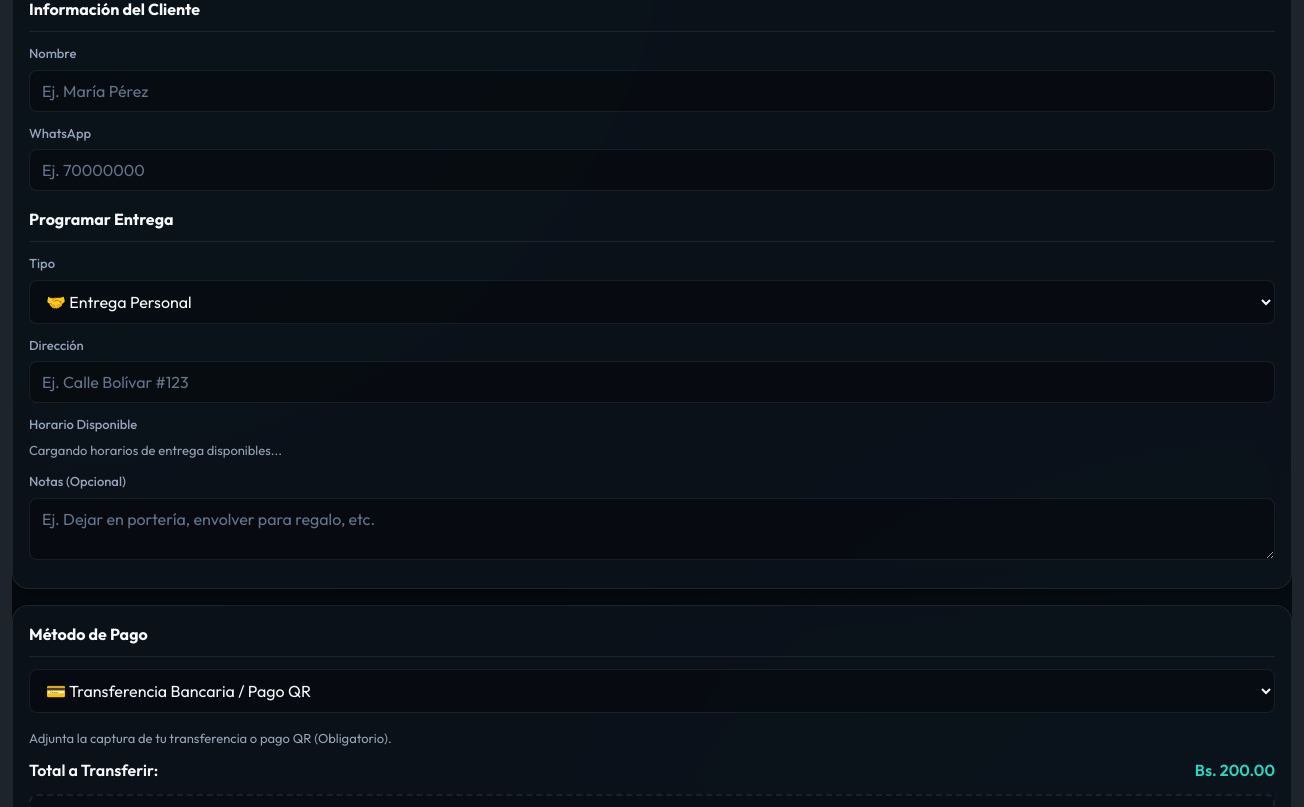
Test: Checkout.tsx — Validaciones de negocio (Pitch A) › bloquea el submit y muestra error si método=transfer y no se adjuntó comprobante
Rellenar campos obligatorios del formulario
Type "Juan Prueba" into the field with placeholder "Ej. María Pérez" at (652, 90), box x1=29 y1=70 x2=1275 y2=112
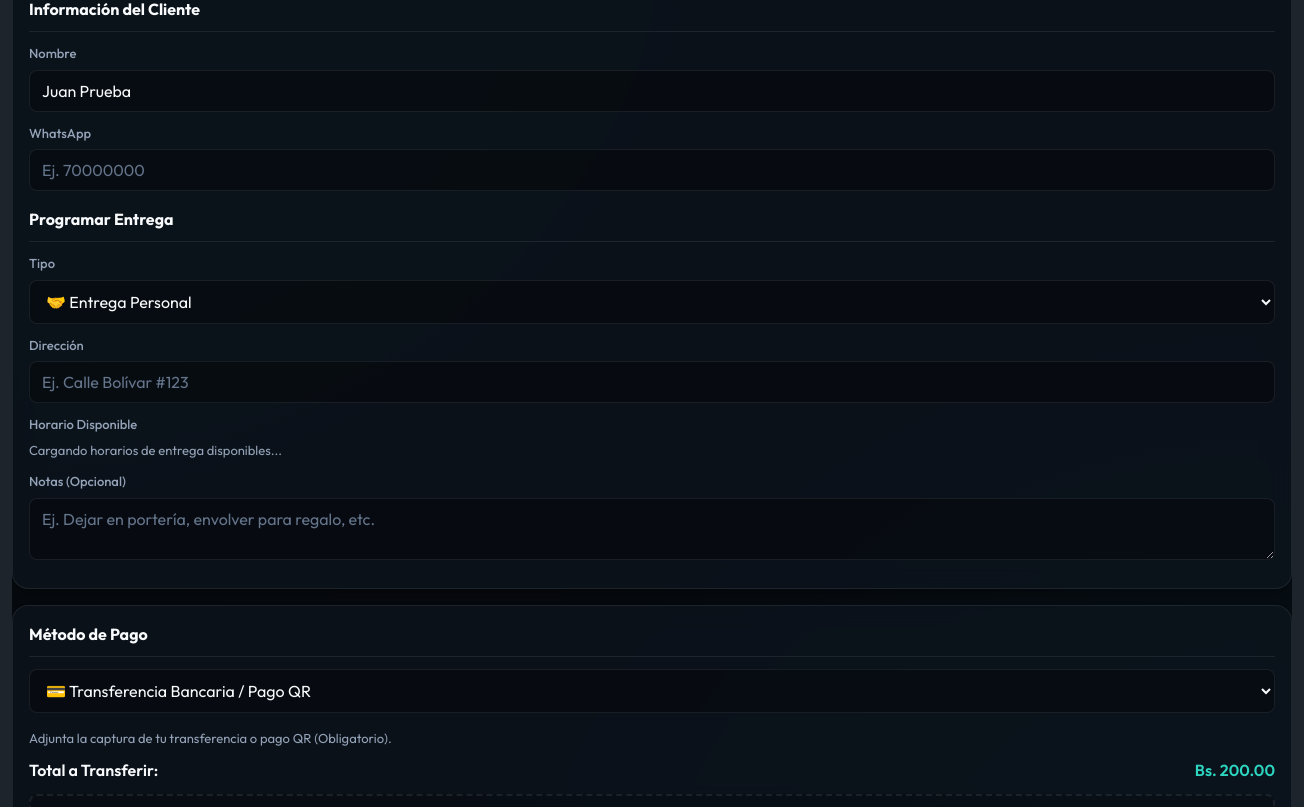
Type "77654321" into the field with placeholder "Ej. 70000000" at (652, 170), box x1=29 y1=149 x2=1275 y2=191
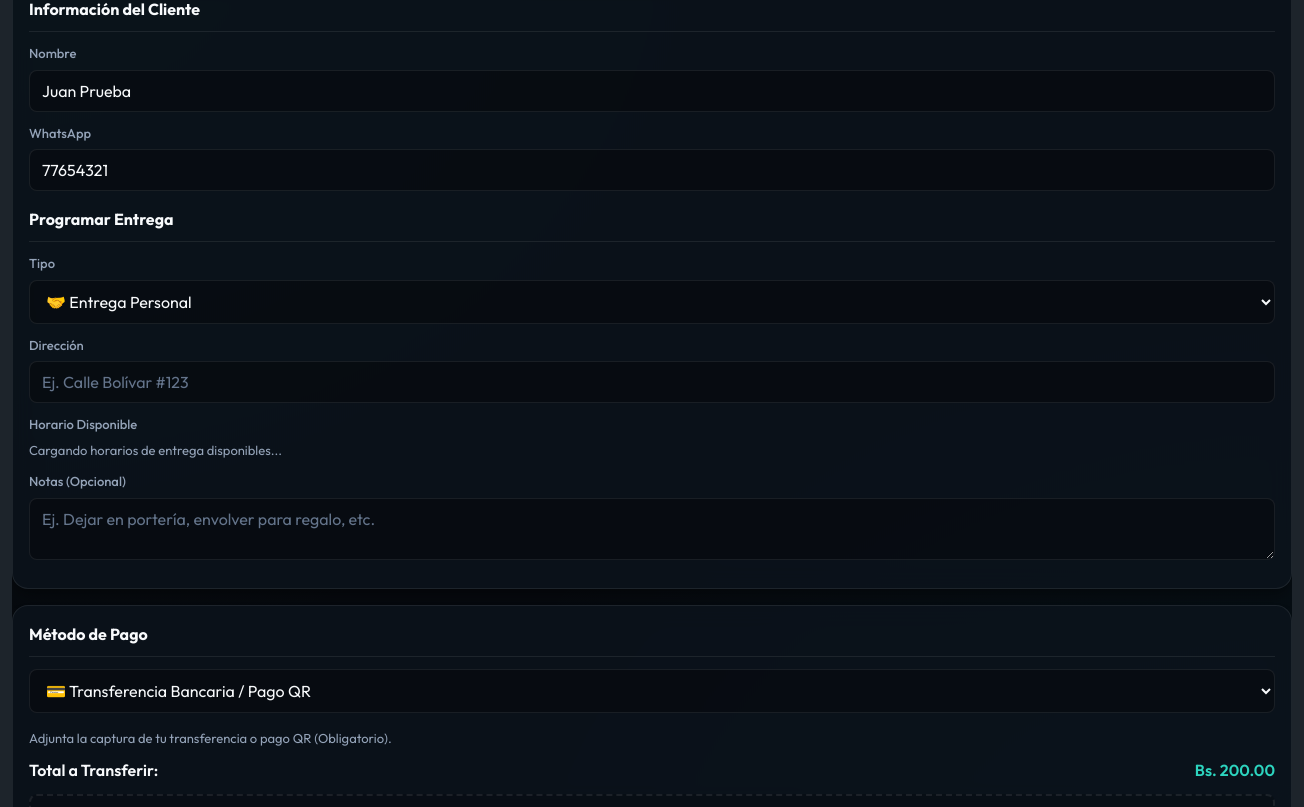
Type "Av. América #456" into the field with placeholder "Ej. Calle Bolívar #123" at (652, 382), box x1=29 y1=361 x2=1275 y2=403
(page scrolled)
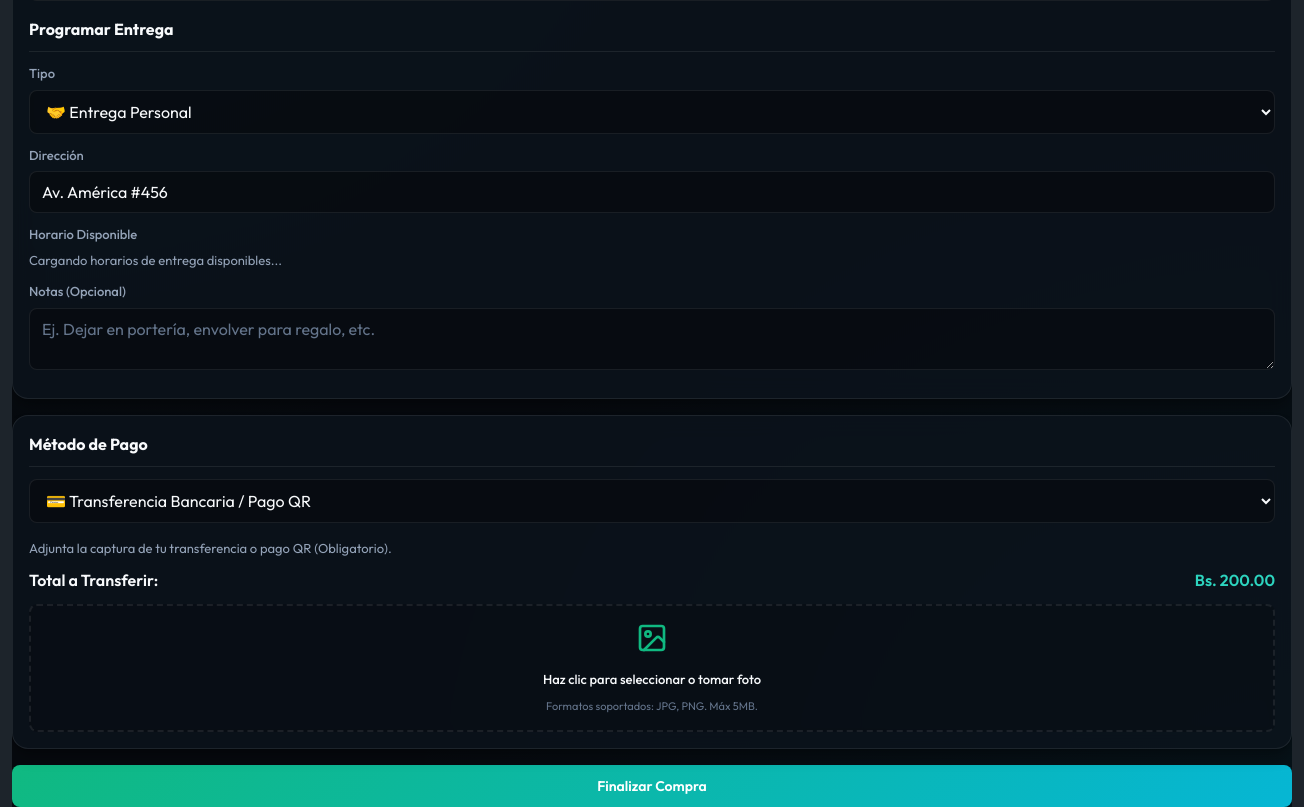
Click the button "Finalizar Compra" at (652, 786), box x1=12 y1=765 x2=1292 y2=806
(page scrolled)
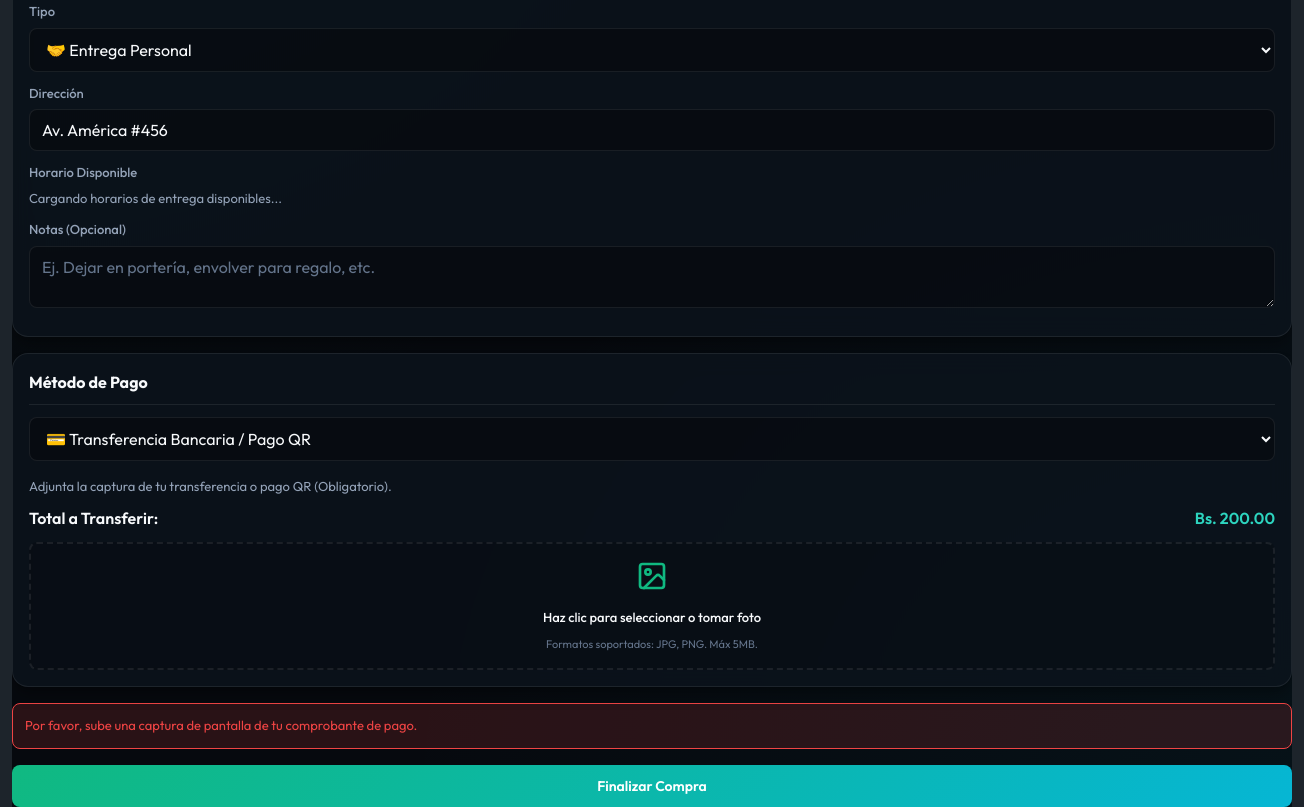
Now the text "sube una captura de pantalla de tu comprobante" is shown, box x1=25 y1=717 x2=417 y2=733
